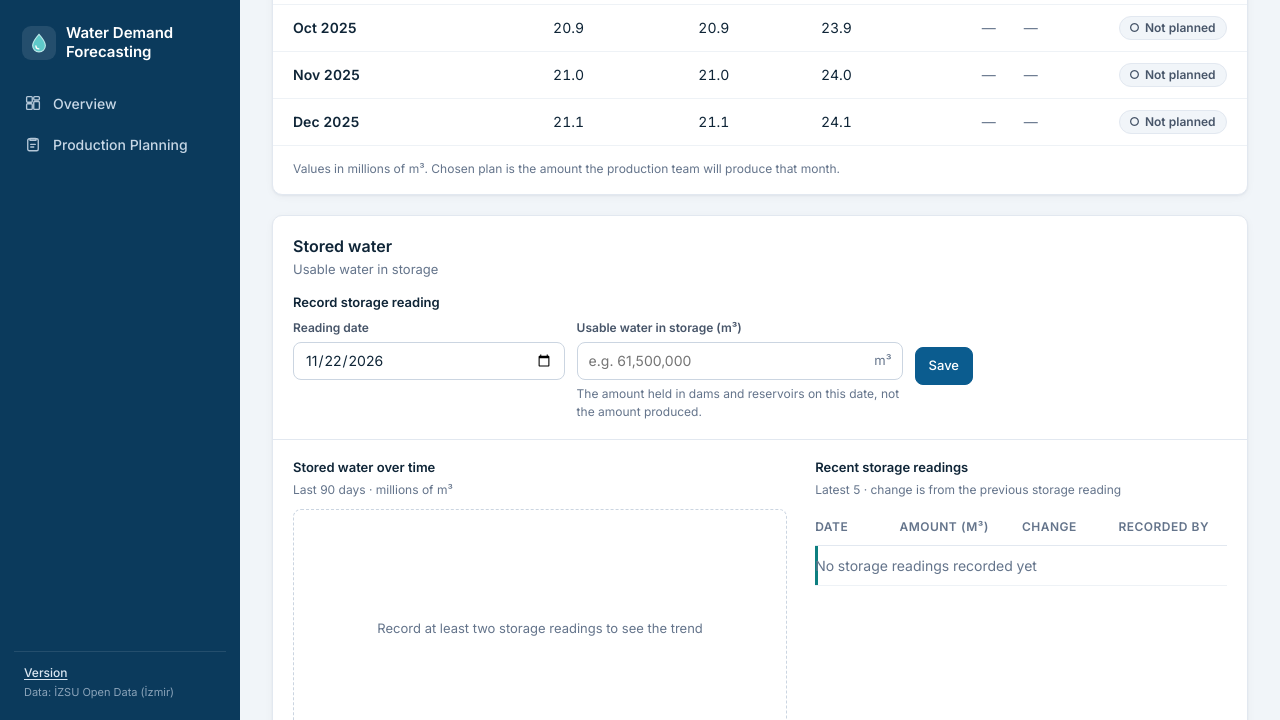
Test case: a 409 large_change shows the confirmation, and "Yes, save it" resends with confirm_large_change: true
(page scrolled)
Step 1. Type "2025-03-01" into the date field labelled "Reading date" → (429, 361), box [293,342,565,380]
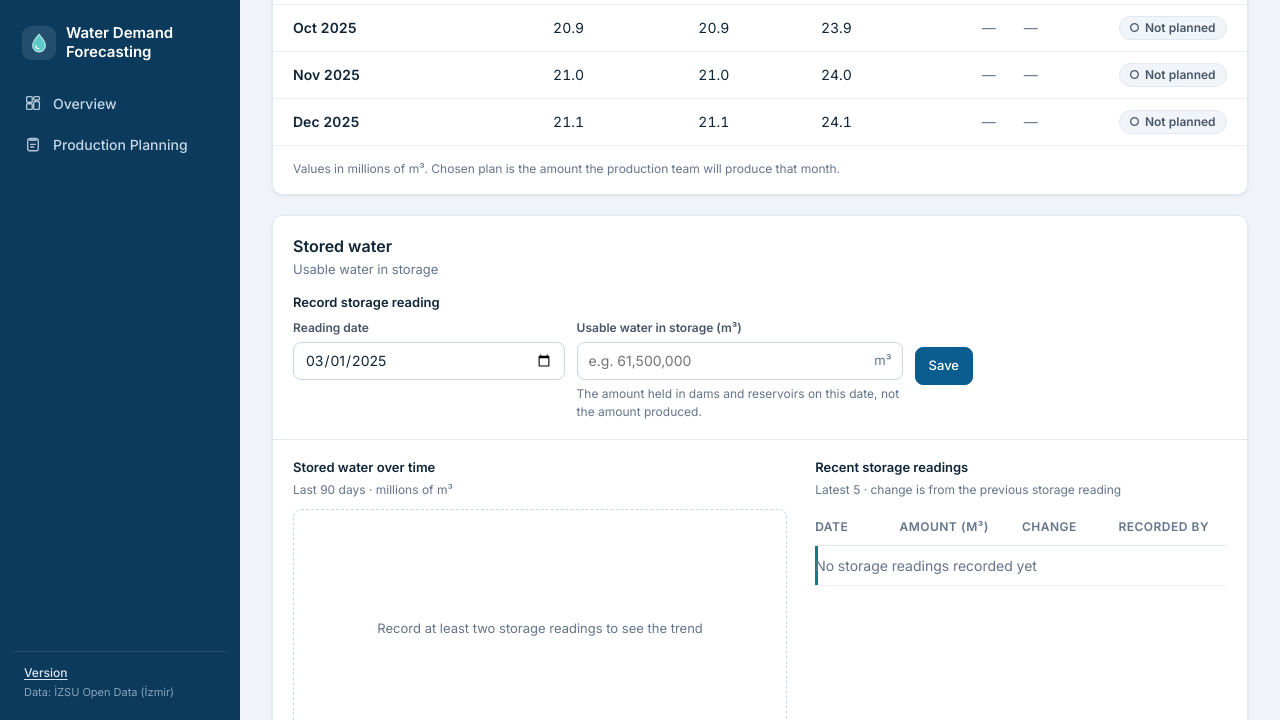
Step 2. Type "60000000" into the field labelled "Usable water in storage (m³)" → (740, 361), box [577,342,902,380]
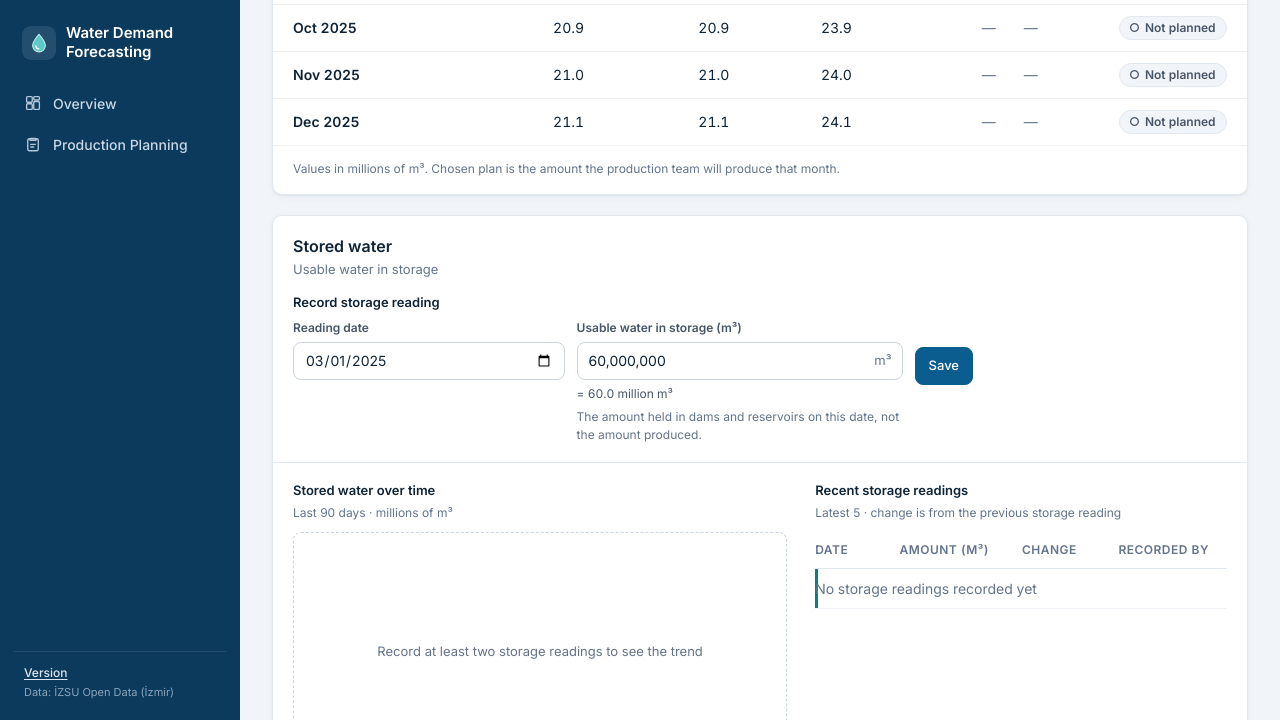
Step 3. Click the button "Save" → (944, 366), box [914,347,973,385]
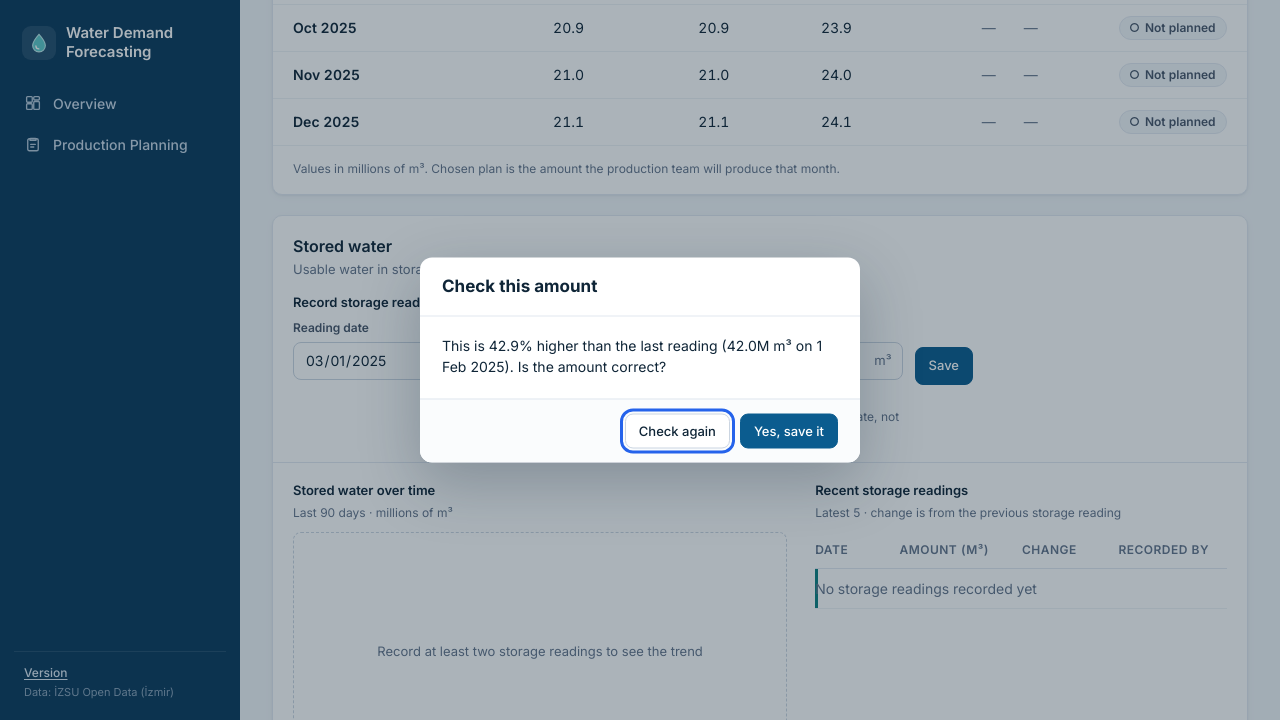
Result: the text "This is 42.9% higher than the last reading (42.0M m³ on 1 Feb 2025). Is the amount correct?" is shown at [442,334,838,376]
Step 4. Click the button "Yes, save it" → (789, 431), box [740,413,838,448]
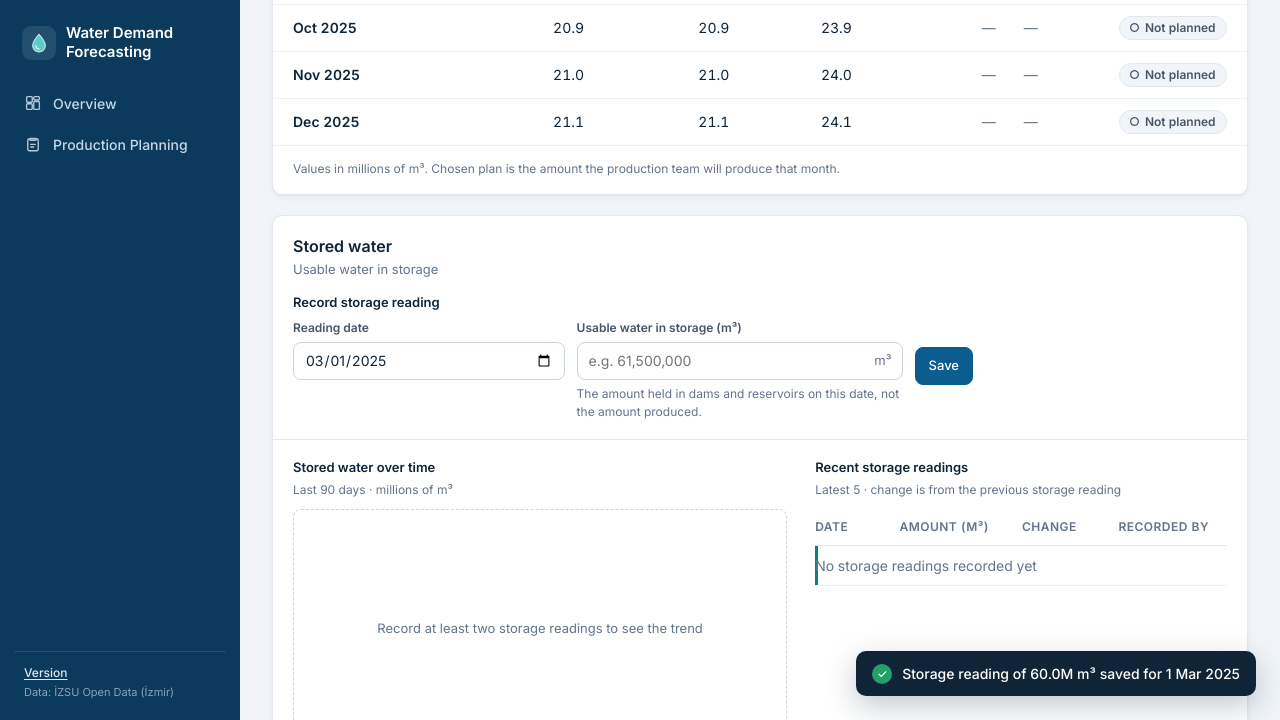
Result: the heading "Check this amount" is gone
Result: the text "Storage reading of 60.0M m³ saved for 1 Mar 2025" is shown at [902,663,1240,684]
